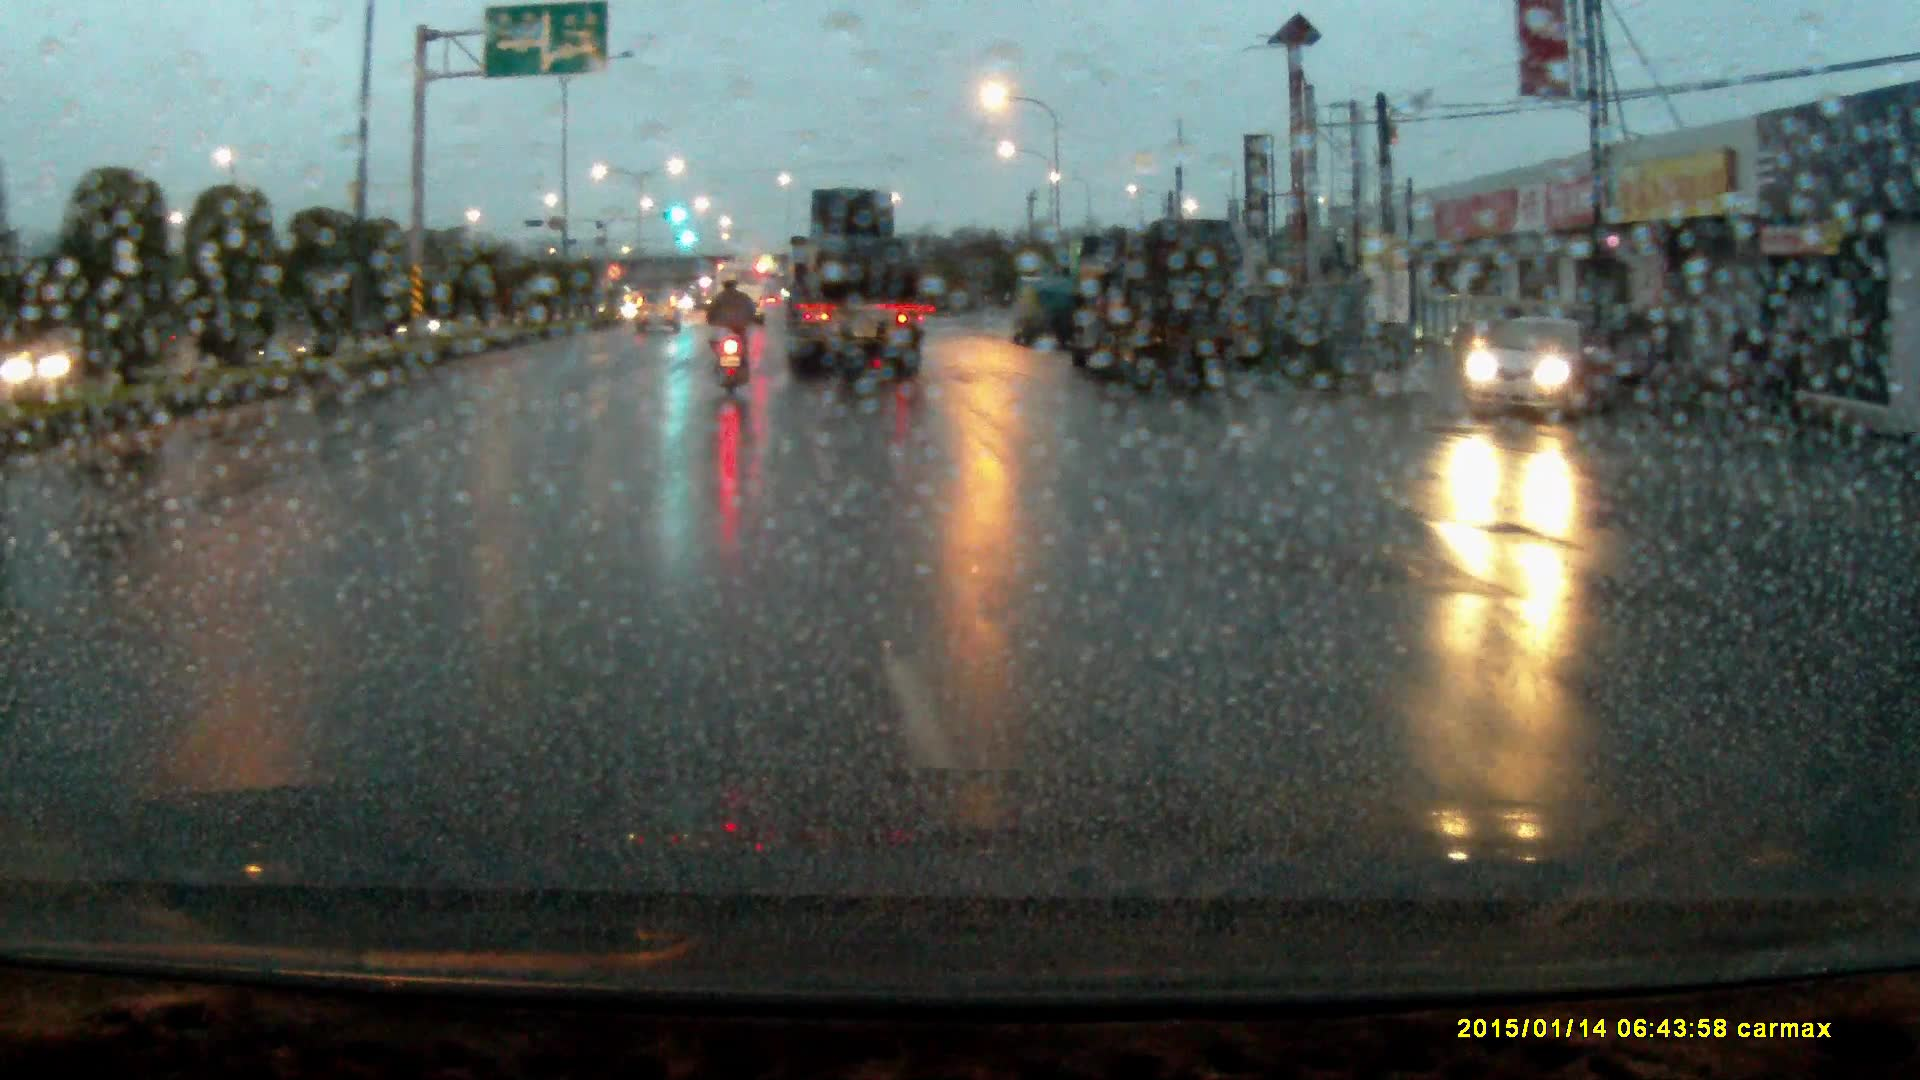rider: (703, 270, 762, 396)
vehicle: (1066, 214, 1242, 394), (789, 191, 927, 379), (1461, 311, 1627, 419), (1009, 274, 1080, 348), (716, 260, 766, 321), (635, 289, 683, 335)
